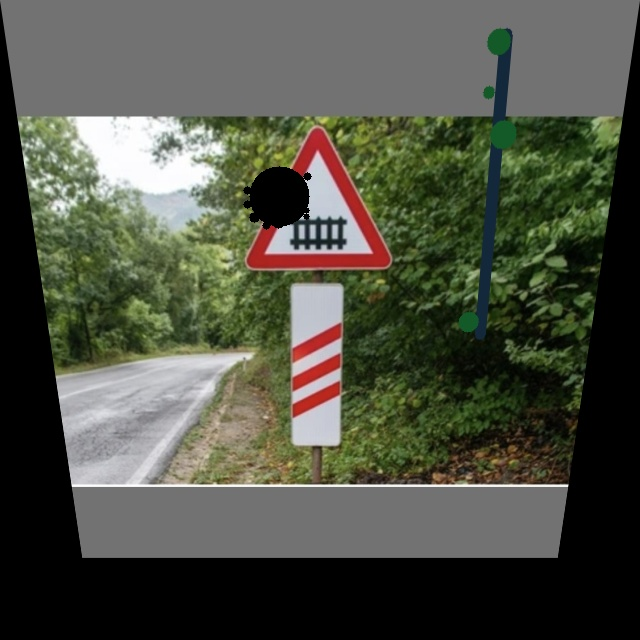Guarded_Level_Crossing: (241, 128, 399, 269)
